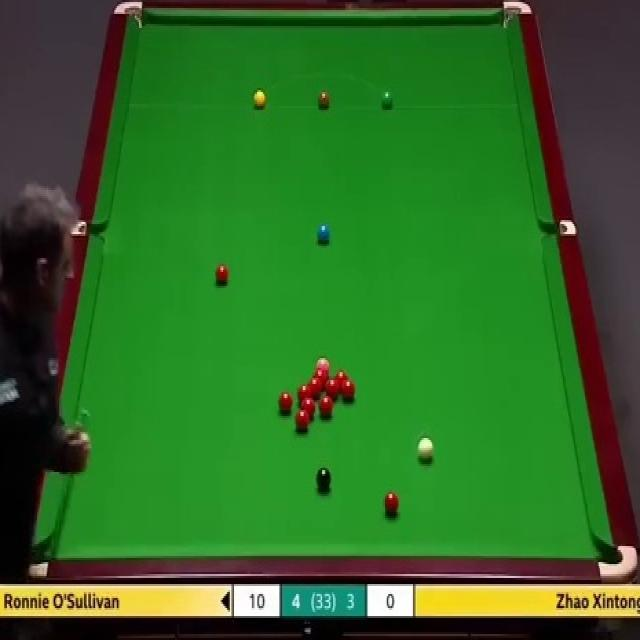pocket: (598, 544, 638, 583), (502, 2, 533, 32), (112, 1, 144, 30), (31, 542, 50, 579), (70, 221, 104, 240), (542, 222, 576, 240)
